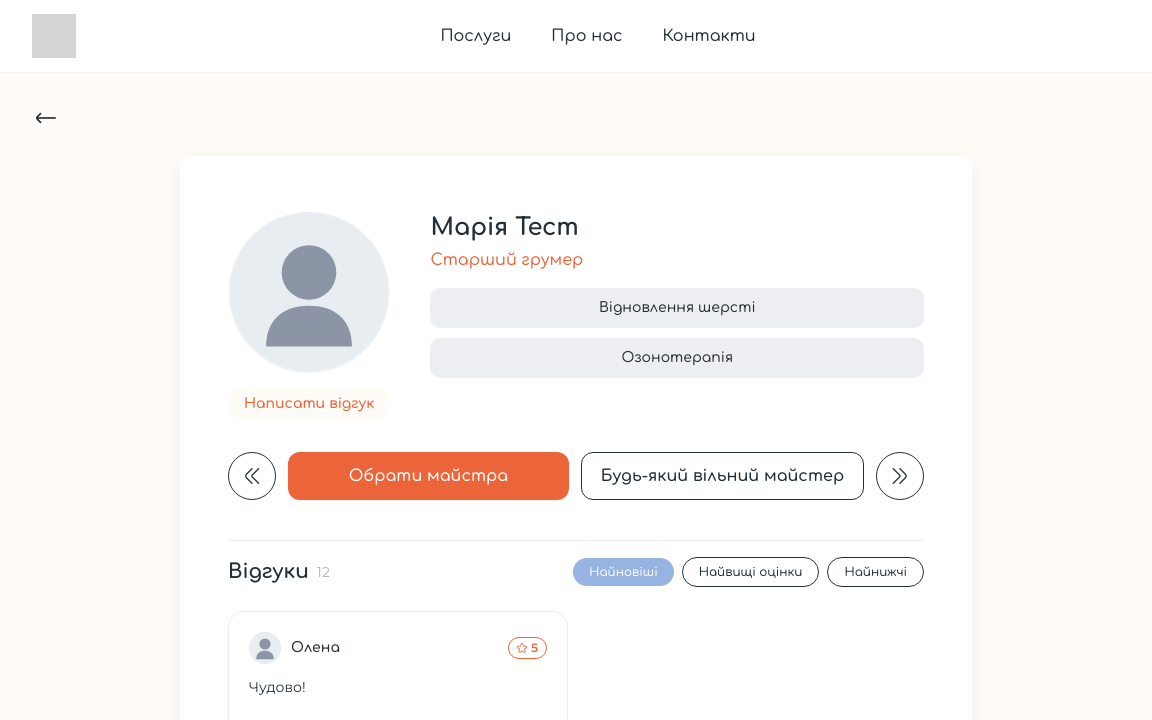
BookingPage › renders stage 3 master selection and handles carousel navigation
Expected: the heading "Марія Тест" is shown, [430, 214, 579, 241]
Expected: the button "Обрати майстра" is shown, [288, 452, 569, 500]
Step 1. Click the button named "Наступний майстер" → click(900, 476), box [876, 452, 924, 500]
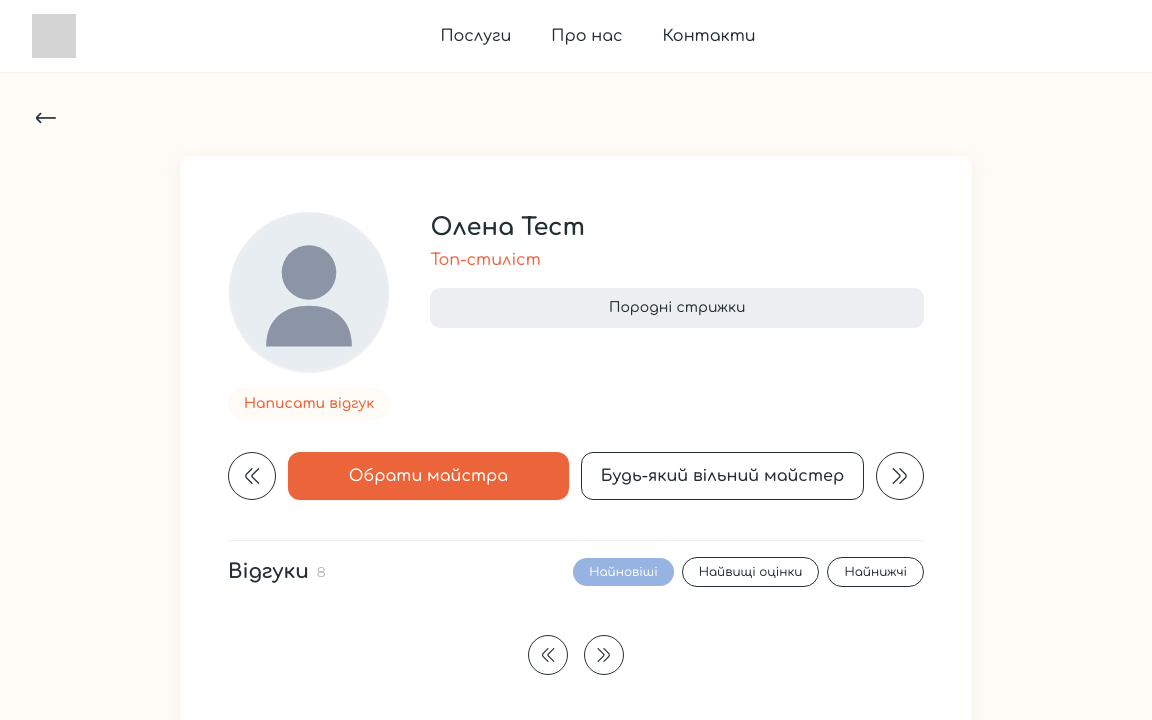
Now the heading "Олена Тест" is shown, box [430, 214, 585, 241]
Step 2. Click the button named "Попередній майстер" → click(252, 476), box [228, 452, 276, 500]
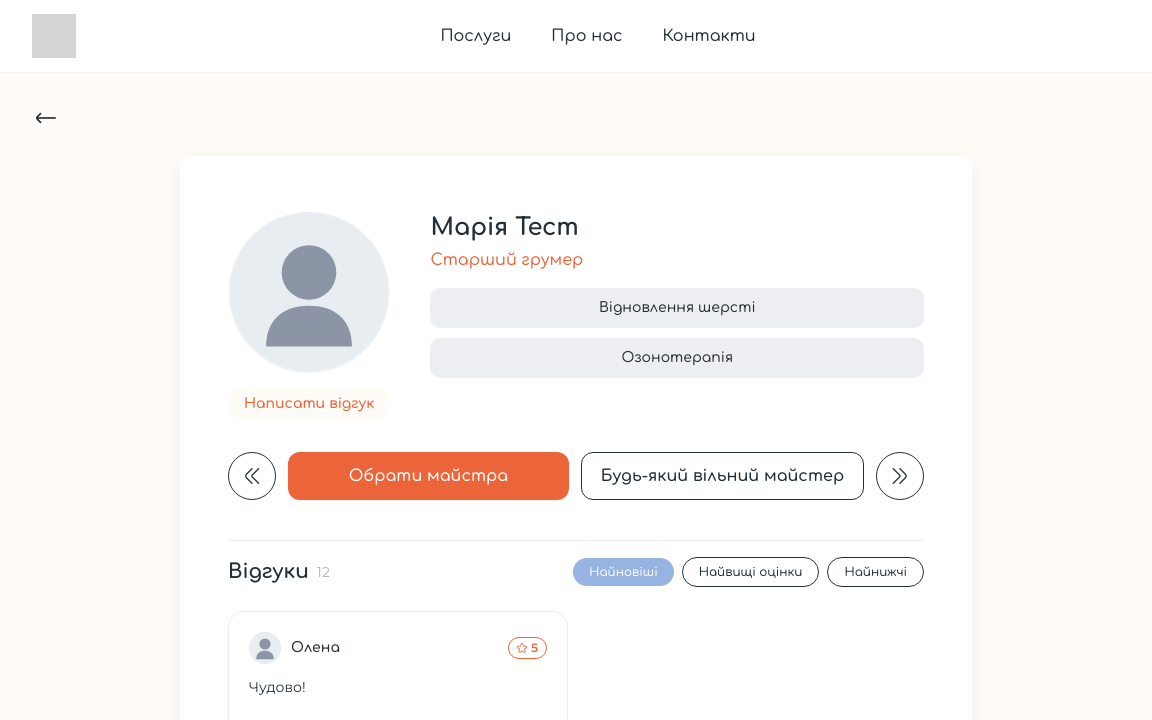
Now the heading "Марія Тест" is shown, box [430, 214, 579, 241]
